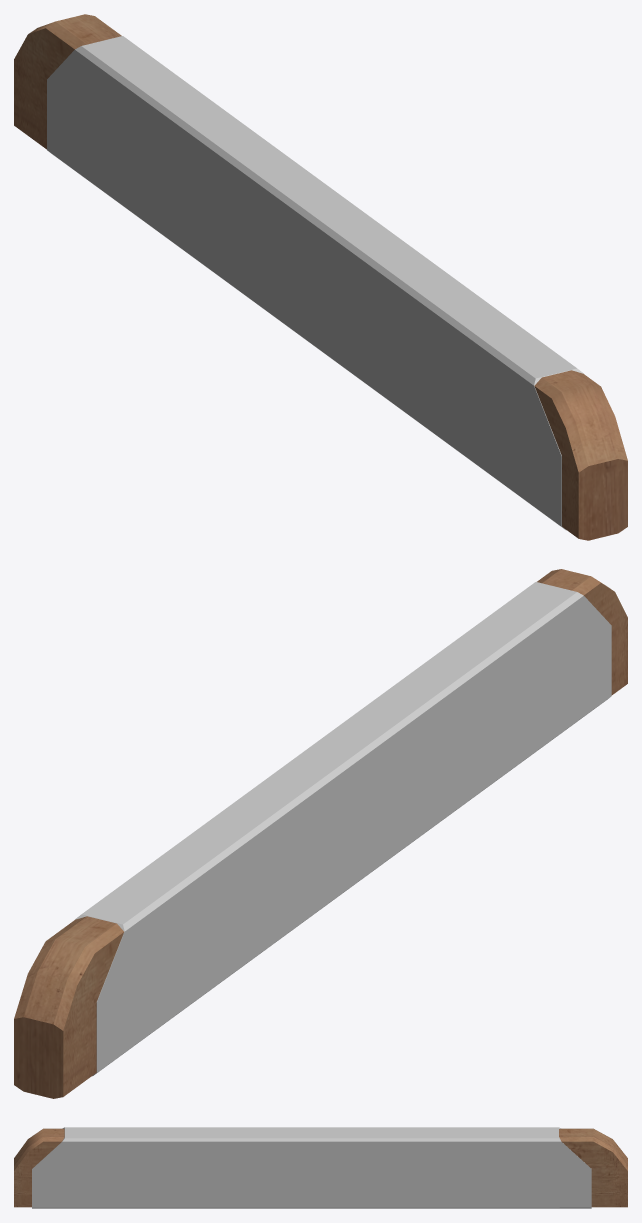
The model's file is SM_HBJ_BeamB.fbx.
3 renders of one model, top to bottom at view 1: azimuth 30°, elevation 25°; view 2: azimuth 150°, elevation 25°; view 3: azimuth 270°, elevation 25°, orthographic. The views are drawn at different scales.
Visible parts, largest first — view 1: SM_HBJ_BeamB_ConvexHulls, SM_HBJ_BeamB; view 2: SM_HBJ_BeamB_ConvexHulls, SM_HBJ_BeamB; view 3: SM_HBJ_BeamB_ConvexHulls, SM_HBJ_BeamB.
Boxes of the visible parts, bbox=[...] form: SM_HBJ_BeamB_ConvexHulls: bbox=[47, 36, 583, 530]; SM_HBJ_BeamB: bbox=[14, 14, 627, 540]; SM_HBJ_BeamB_ConvexHulls: bbox=[75, 582, 611, 1076]; SM_HBJ_BeamB: bbox=[14, 569, 627, 1098]; SM_HBJ_BeamB_ConvexHulls: bbox=[32, 1127, 591, 1208]; SM_HBJ_BeamB: bbox=[14, 1128, 627, 1207].
Bounding box in the file's own units: 17 × 332 × 42.1.
2 materials, 1 textured.
